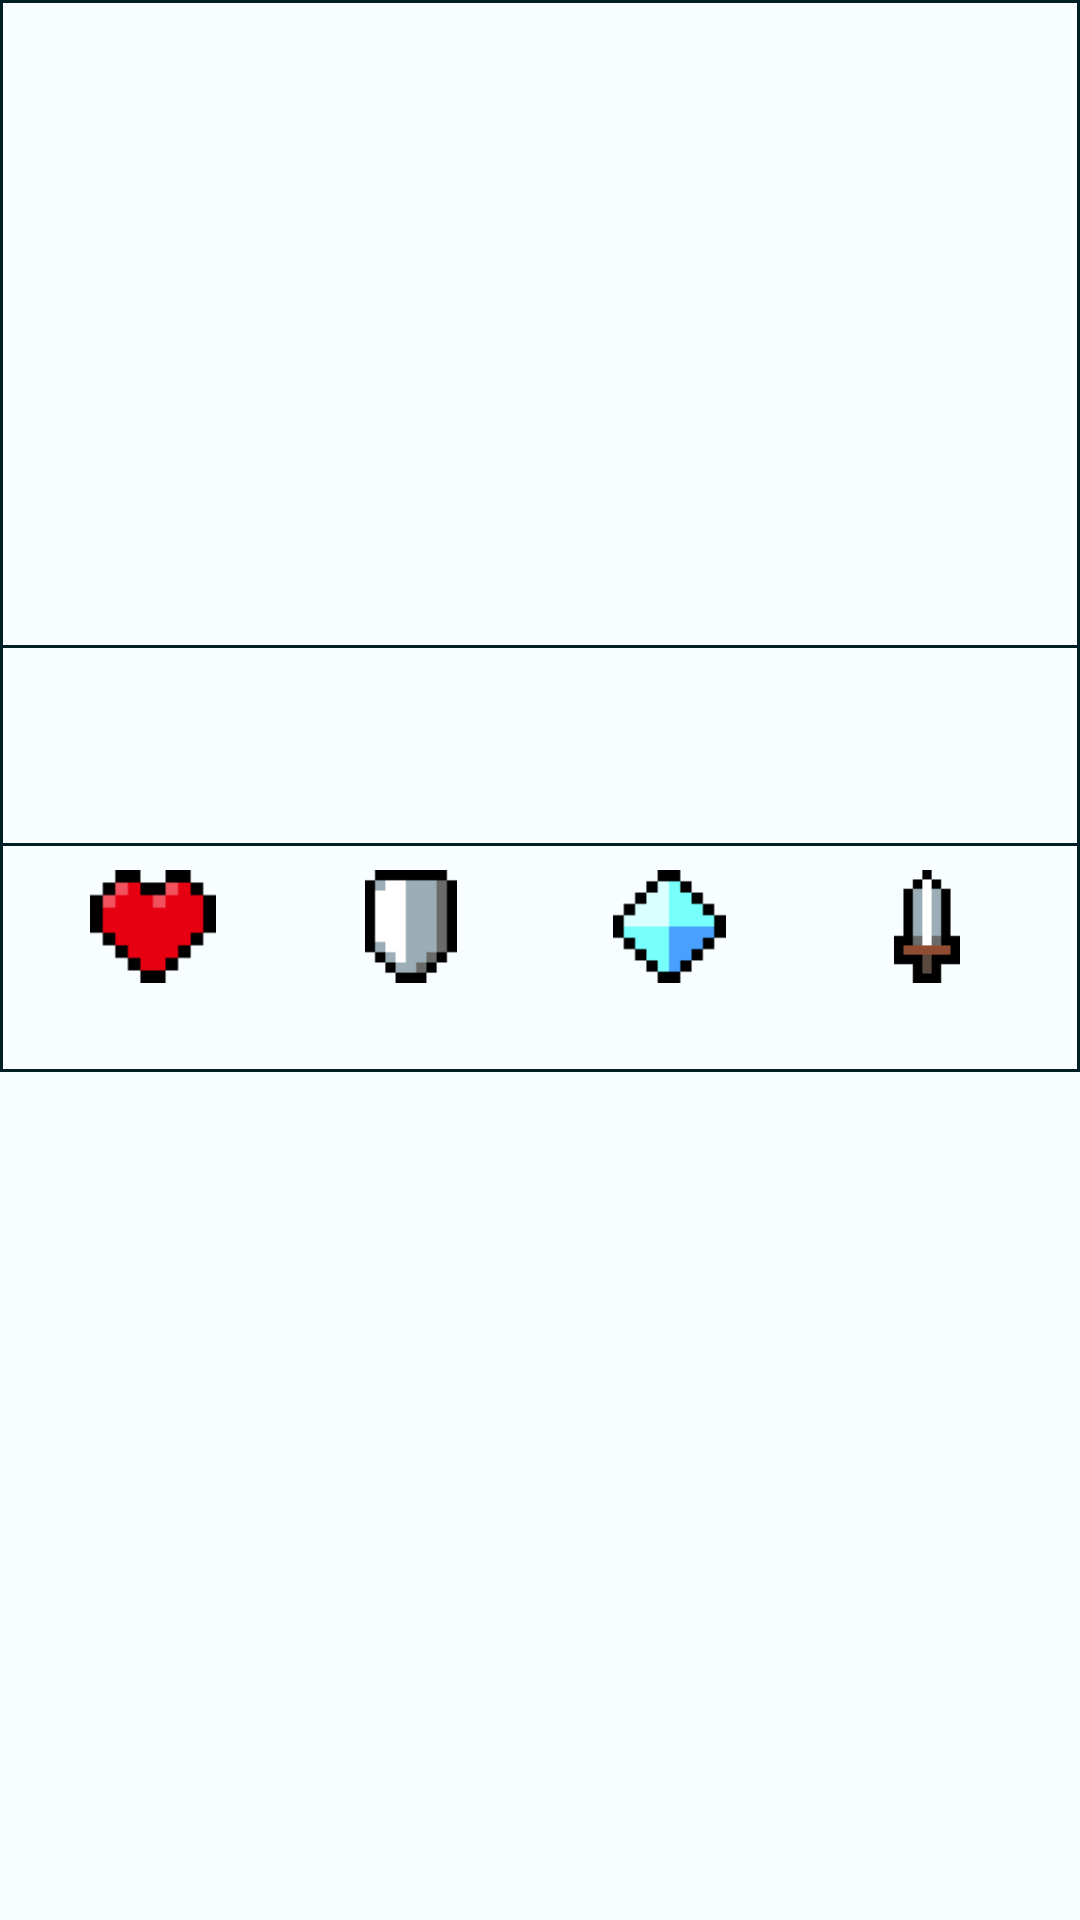

Point at icon controls on the screen. Image size 1080x1920, points as (x=x, y=y).
armor: (x=411, y=926)
damage: (x=927, y=926)
energy: (x=669, y=926)
health: (x=153, y=926)
